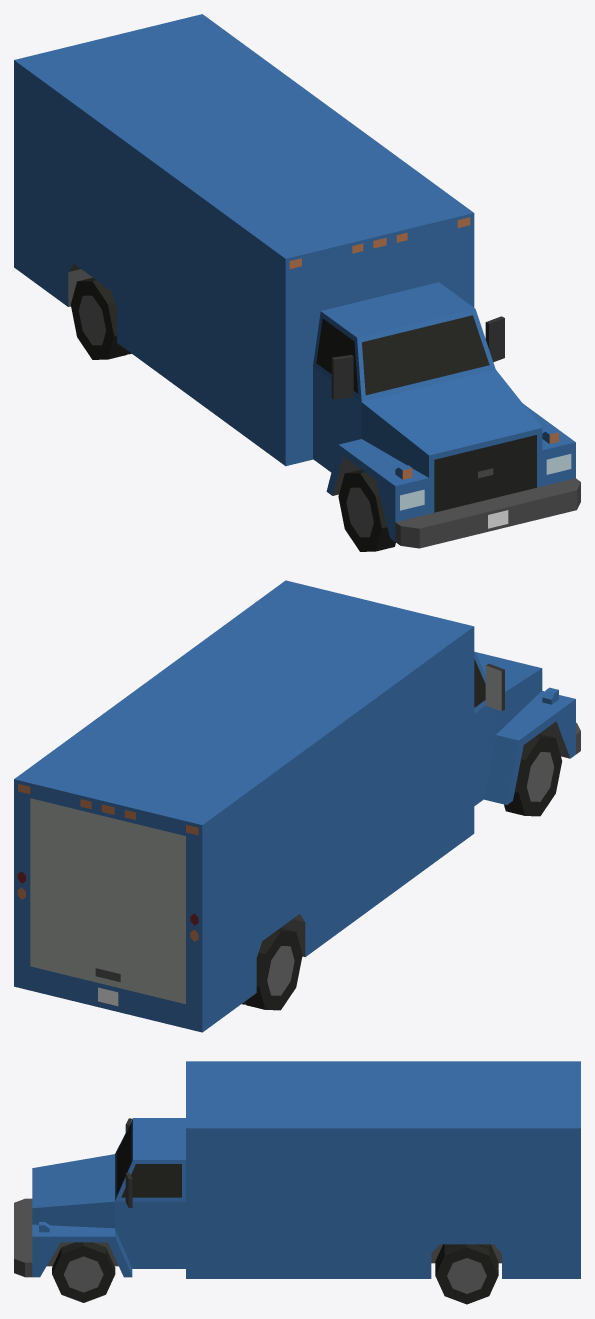
The model's file is Veh_Truck_01_Blue.glb.
The picture shows the model from 3 angles, top to bottom: view 1: azimuth 30°, elevation 25°; view 2: azimuth 150°, elevation 25°; view 3: azimuth 270°, elevation 25°; orthographic projection. The views are drawn at different scales.
Visible parts, largest first — view 1: Truck_01_Blue, Wheel_RR, Wheel_FR; view 2: Truck_01_Blue, Wheel_RR, Wheel_FR; view 3: Truck_01_Blue, Wheel_RL, Wheel_FL.
Boxes of the visible parts, left/top/right/bottom form: Truck_01_Blue: left=14, top=14, right=580, bottom=548; Wheel_RR: left=70, top=277, right=131, bottom=359; Wheel_FR: left=338, top=469, right=395, bottom=551; Truck_01_Blue: left=14, top=580, right=580, bottom=1032; Wheel_RR: left=242, top=928, right=302, bottom=1010; Wheel_FR: left=504, top=734, right=562, bottom=816; Truck_01_Blue: left=14, top=1061, right=580, bottom=1278; Wheel_RL: left=435, top=1244, right=498, bottom=1304; Wheel_FL: left=52, top=1242, right=115, bottom=1302.
Size of the model in its own units: 1.35 by 1.66 by 4.85.
1 material, 1 textured.
